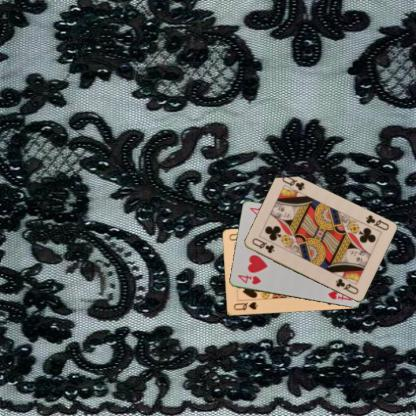4h: (235, 272, 262, 286)
Qc: (363, 212, 390, 232), (249, 236, 276, 255)
Qs: (231, 299, 258, 312)
